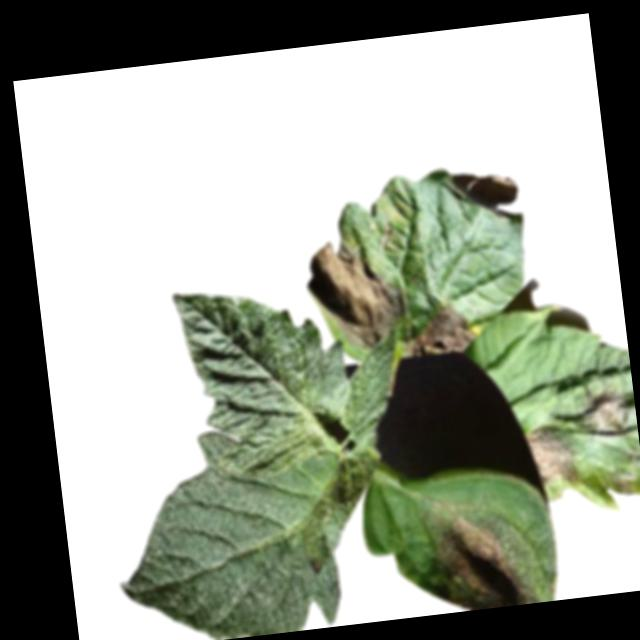Late_blight: (302, 234, 411, 358), (429, 506, 534, 613), (402, 298, 480, 360), (451, 168, 524, 228), (526, 420, 581, 489), (576, 384, 633, 443), (610, 473, 634, 496)
healthy: (108, 450, 360, 640), (170, 276, 353, 486), (331, 330, 407, 448)
